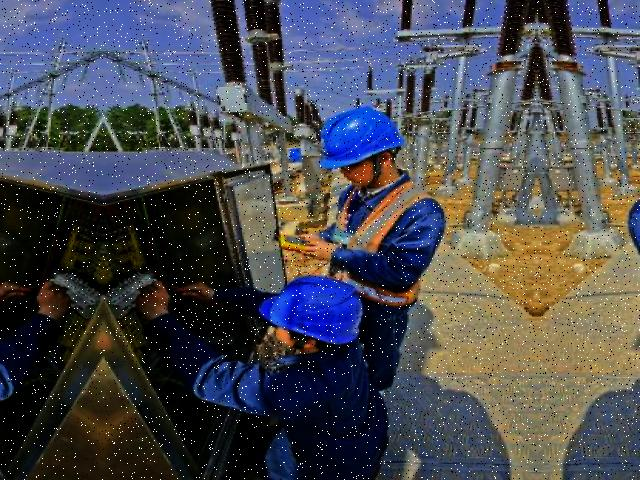Helmet: (256, 270, 372, 350), (304, 100, 418, 177)
